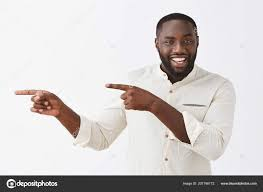C_shirt: (79, 67, 235, 176)
